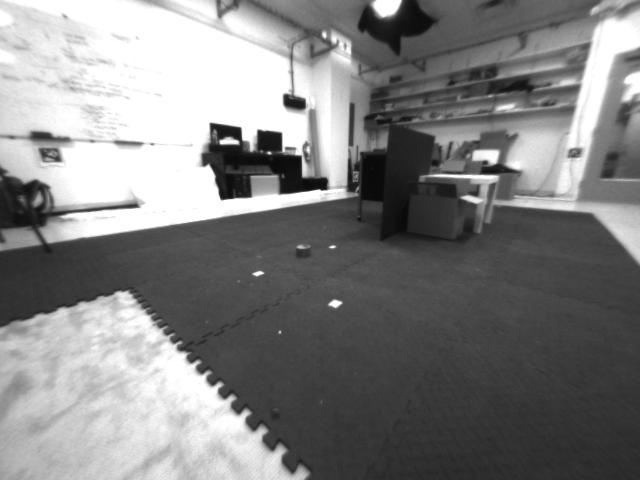dogtoy: (279, 238, 319, 265)
